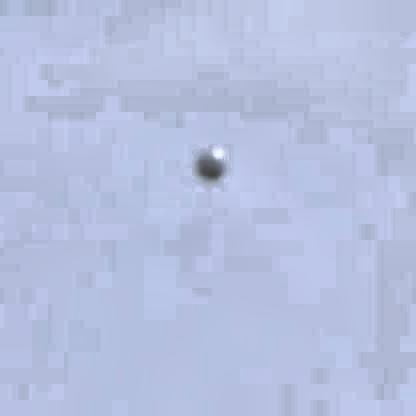golfball: (190, 145, 223, 181)
